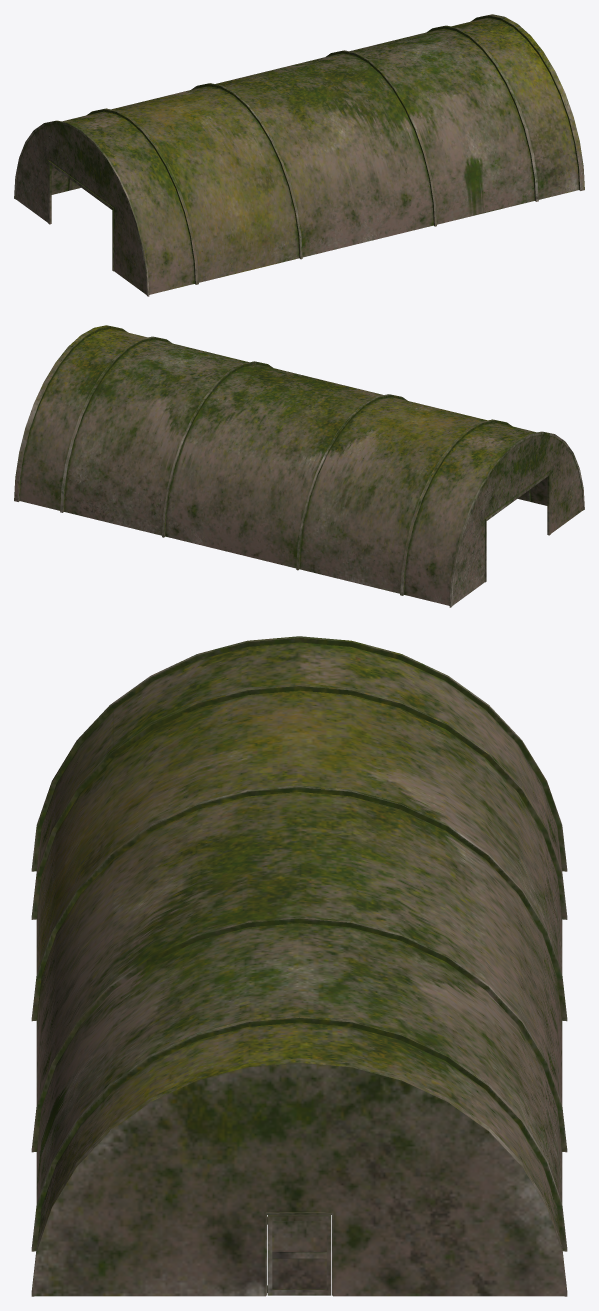
File: hanger.fbx
3 renders of one model, top to bottom at view 1: azimuth 30°, elevation 25°; view 2: azimuth 150°, elevation 25°; view 3: azimuth 270°, elevation 25°, orthographic. The views are drawn at different scales.
Parts seen in each view (by area): view 1: Cube; view 2: Cube; view 3: Cube.
Part boxes in pixels (x1,y1,x2,y2): Cube: (14, 14, 584, 296); Cube: (14, 325, 584, 607); Cube: (31, 636, 567, 1296).
Bounding box in the file's own units: 7.94 × 2.03 × 4.21.
1 material, 1 textured.
